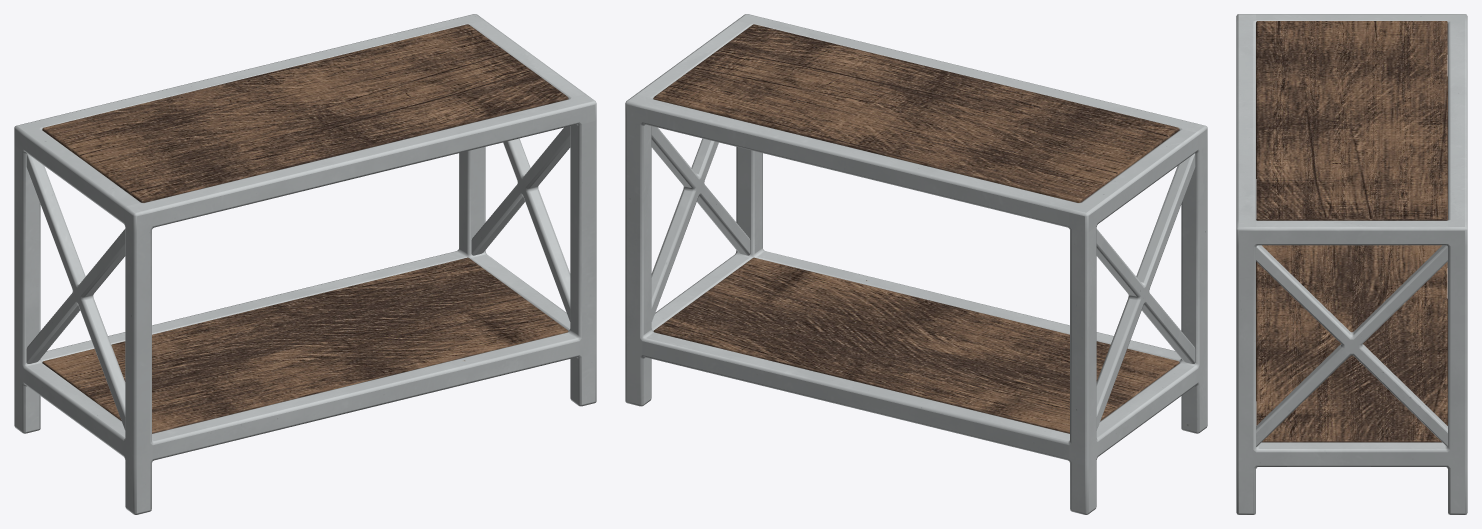
The model's file is Box_Table.fbx.
The picture shows the model from 3 angles, left to right: view 1: azimuth 30°, elevation 25°; view 2: azimuth 150°, elevation 25°; view 3: azimuth 270°, elevation 25°; orthographic projection. The views are drawn at different scales.
Parts seen in each view (by area): view 1: Box_Table; view 2: Box_Table; view 3: Box_Table.
Part boxes in pixels (x1,y1,x2,y2): Box_Table: (14,14,596,514); Box_Table: (625,14,1207,514); Box_Table: (1236,14,1467,514).
Bounding box in the file's own units: 103 × 64.59 × 46.9.
2 materials, 2 textured.
